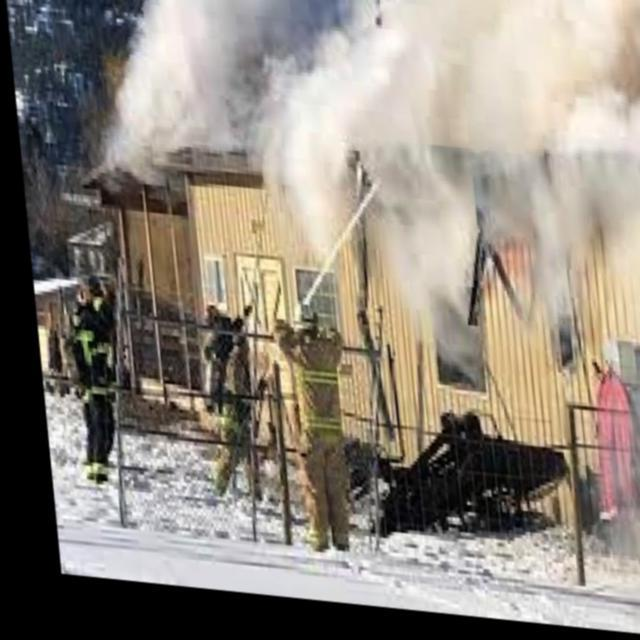Smoke: (257, 0, 640, 363), (65, 0, 390, 223)
